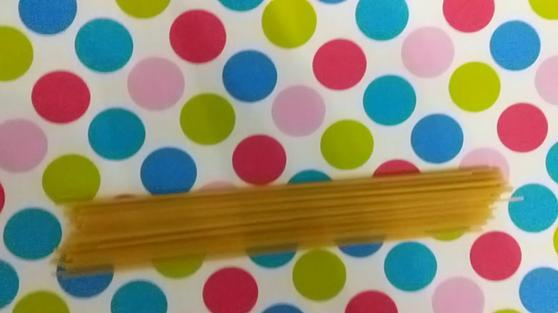spaghetti: (54, 152, 508, 287)
